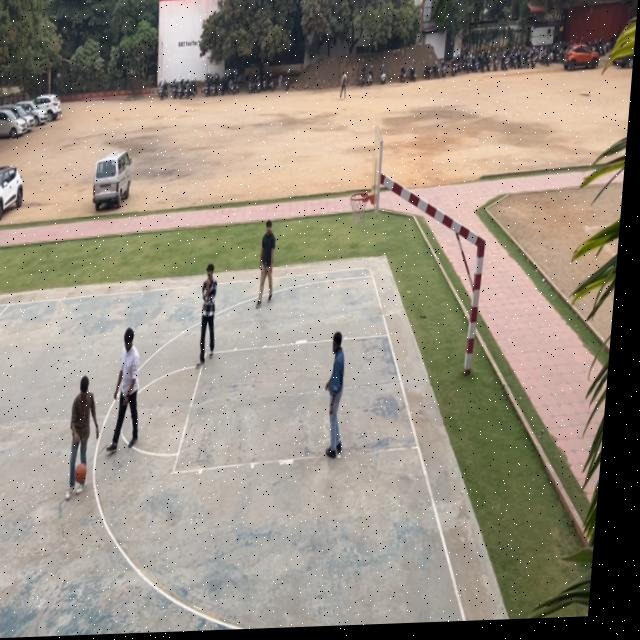basketball: (72, 461, 89, 486)
hoop: (345, 188, 370, 228)
